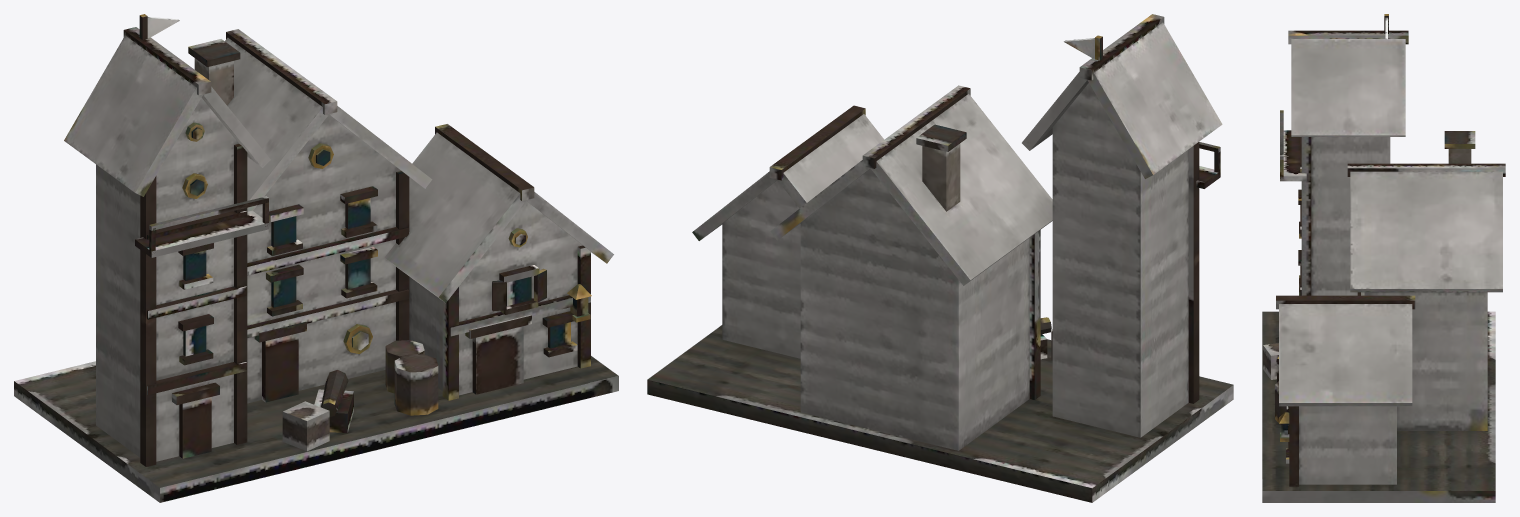
The model's file is pirate_plank_town.glb.
The picture shows the model from 3 angles, left to right: view 1: azimuth 30°, elevation 25°; view 2: azimuth 150°, elevation 25°; view 3: azimuth 270°, elevation 25°; orthographic projection. The views are drawn at different scales.
Visible parts, largest first — view 1: WoodBody, FixedDetails, BrassTrim; view 2: WoodBody, FixedDetails; view 3: WoodBody, FixedDetails.
Part boxes in pixels (x1,y1,x2,y2): WoodBody: (64,17,613,461); FixedDetails: (14,14,618,502); BrassTrim: (182,122,591,353); WoodBody: (692,22,1222,450); FixedDetails: (647,14,1233,502); WoodBody: (1279,17,1502,484); FixedDetails: (1262,14,1505,502).
Size of the model in its own units: 0.457 by 0.385 by 0.2555.
Materials: 3 (3 with a texture image).
